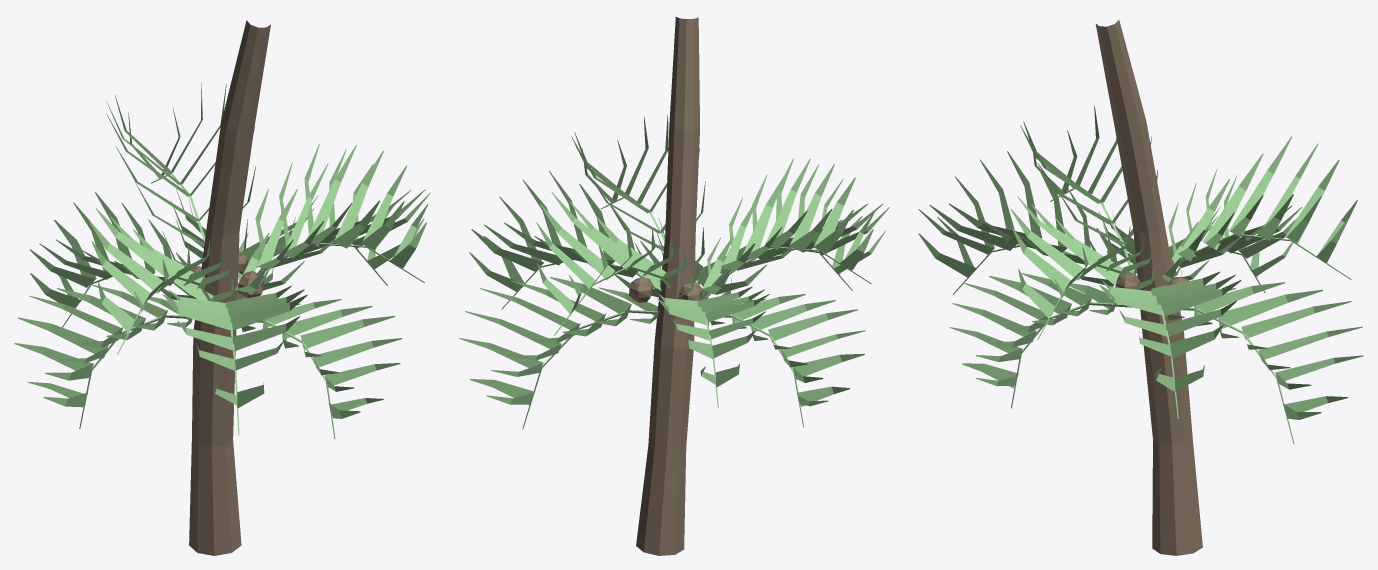
The model's file is nature_palm_mature.glb.
3 renders of one model, left to right at view 1: azimuth 30°, elevation 25°; view 2: azimuth 150°, elevation 25°; view 3: azimuth 270°, elevation 25°, orthographic. The views are drawn at different scales.
Parts seen in each view (by area): view 1: world; view 2: world; view 3: world.
Boxes of the visible parts, x1,y1,x2,y2 form: world: (14,20,430,555); world: (459,17,889,555); world: (918,20,1363,555).
Bounding box in the file's own units: 1.51 × 2 × 1.51.
